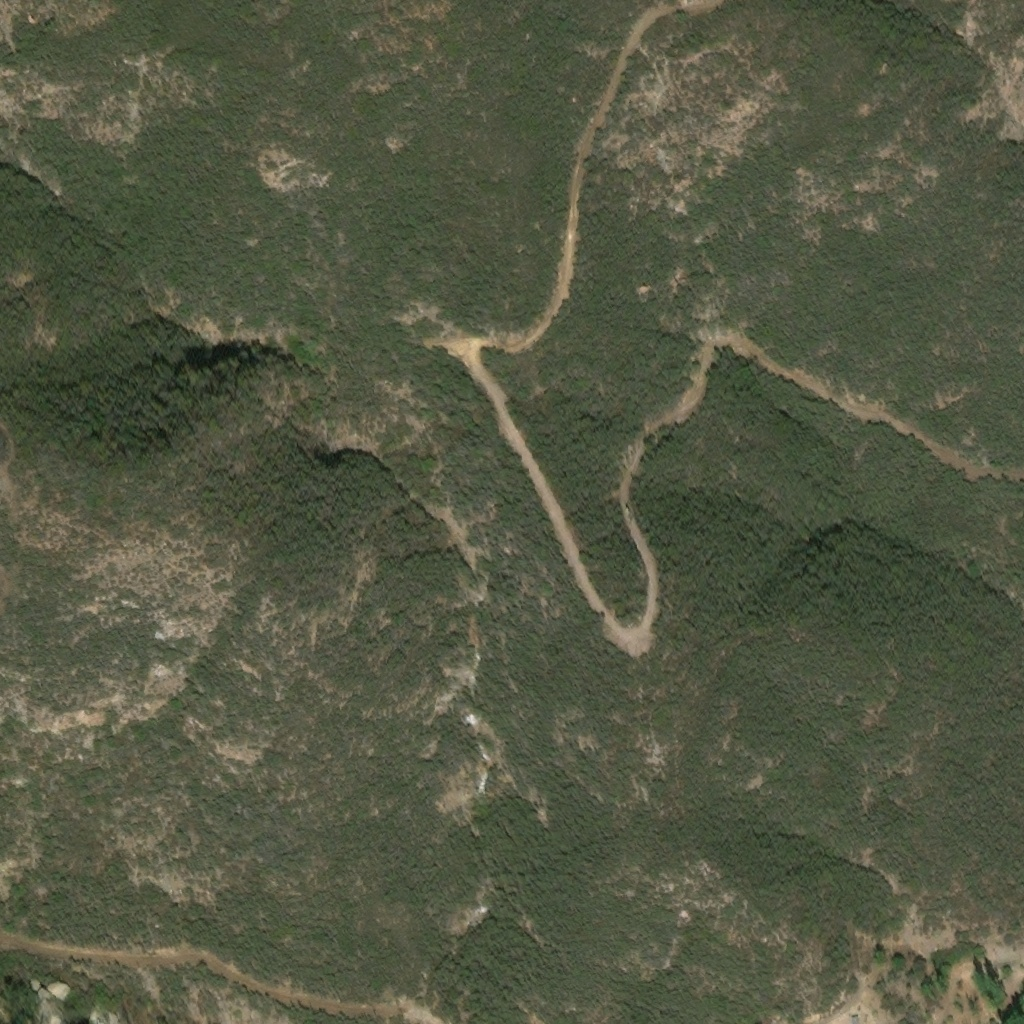4 un-classified: (36, 986, 74, 1023)
